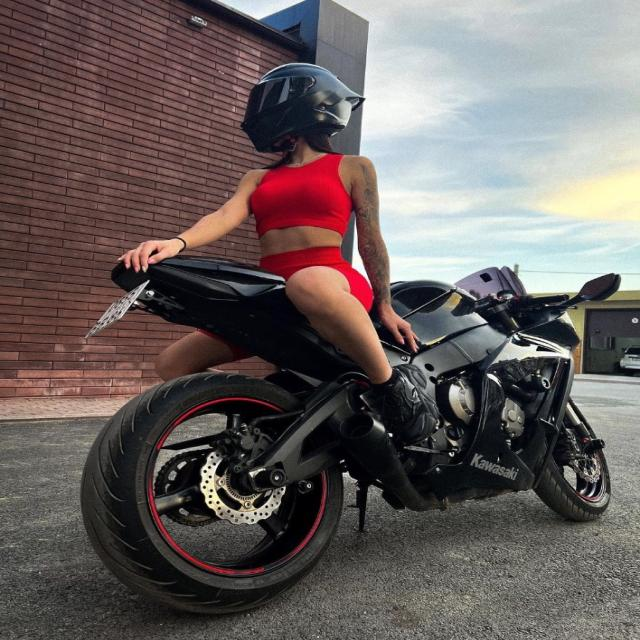helmet: (237, 60, 368, 156)
